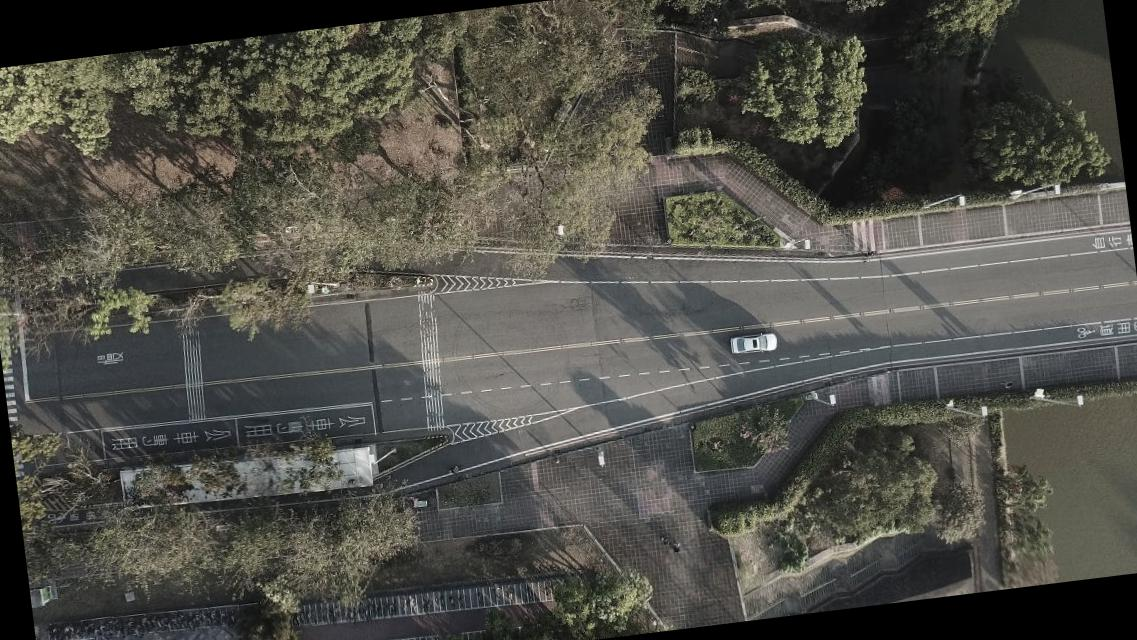vehicle: (728, 331, 777, 357)
